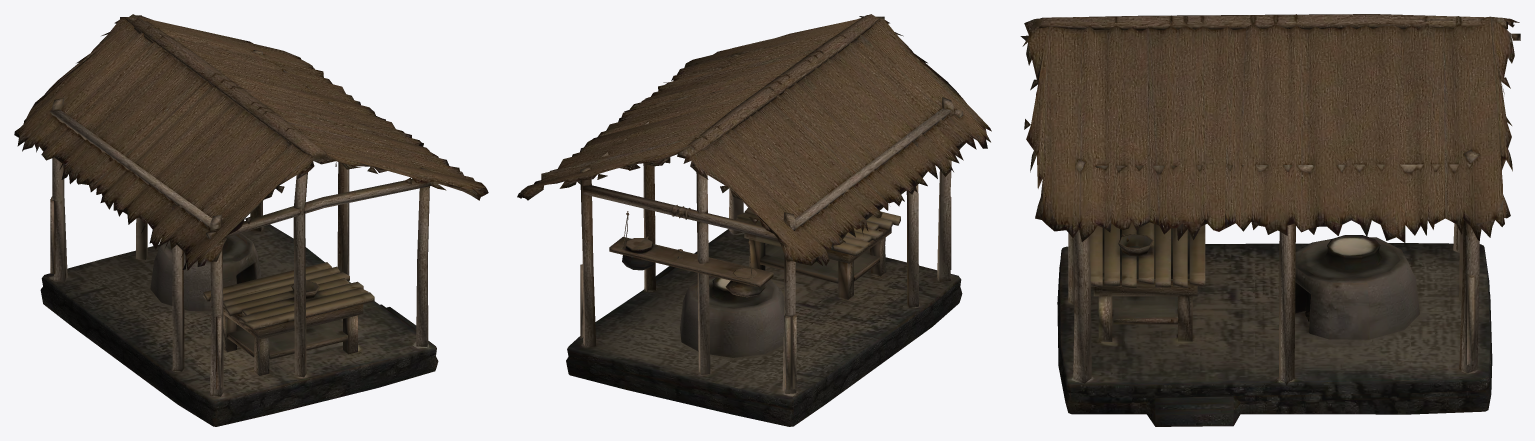
File: thatched-hut-a.glb
3 renders of one model, left to right at view 1: azimuth 30°, elevation 25°; view 2: azimuth 150°, elevation 25°; view 3: azimuth 270°, elevation 25°, orthographic. The views are drawn at different scales.
Parts seen in each view (by area): view 1: tripo_node_a4084ece-025d-4087-a397-5a0ecb74bb77; view 2: tripo_node_a4084ece-025d-4087-a397-5a0ecb74bb77; view 3: tripo_node_a4084ece-025d-4087-a397-5a0ecb74bb77.
Part boxes in pixels (x1,y1,x2,y2): tripo_node_a4084ece-025d-4087-a397-5a0ecb74bb77: [14, 14, 488, 426]; tripo_node_a4084ece-025d-4087-a397-5a0ecb74bb77: [517, 14, 991, 426]; tripo_node_a4084ece-025d-4087-a397-5a0ecb74bb77: [1020, 14, 1520, 426].
Size of the model in its own units: 0.8613 by 0.709 by 0.998.
1 material, 1 textured.
